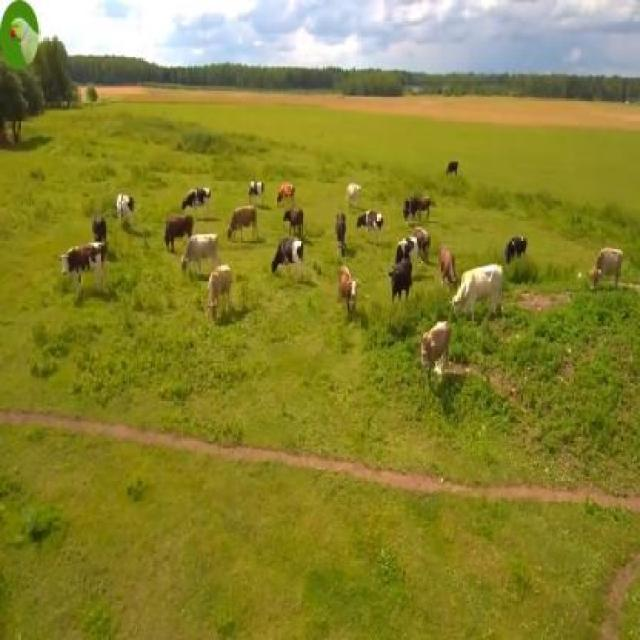Cow: (451, 265, 502, 332)
